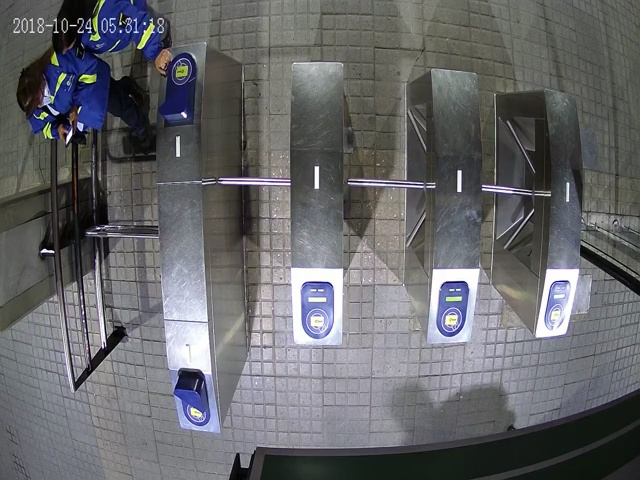Chaleco_azul: (16, 44, 151, 150), (52, 1, 172, 76)
